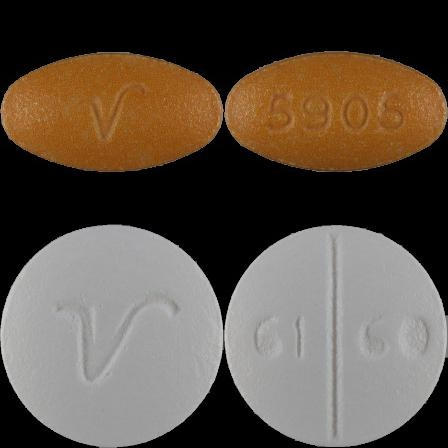0603-5803: (0, 0, 224, 224)
